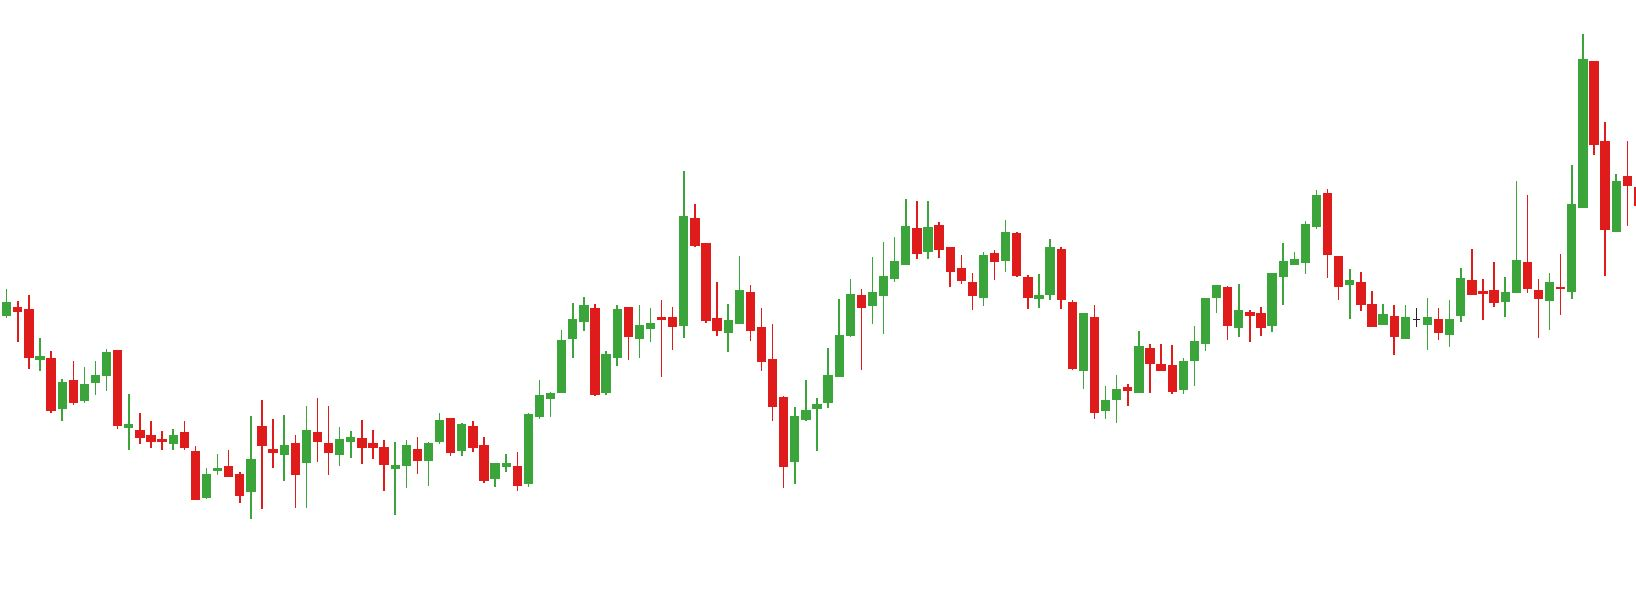buy: (291, 445, 400, 515)
